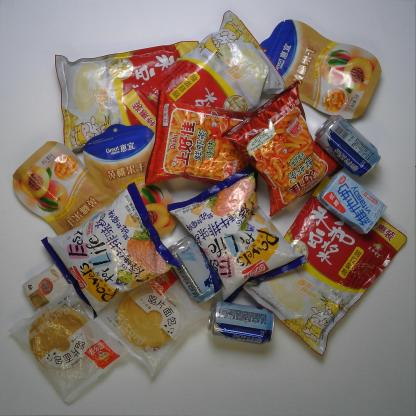Alcohol: (310, 110, 383, 178), (165, 232, 222, 304), (211, 294, 279, 342)
Dessert: (9, 293, 128, 406), (97, 262, 204, 374)
Dried Fruit: (247, 16, 384, 122), (13, 138, 128, 248), (82, 123, 183, 239)
Instant Drink: (242, 169, 411, 358), (143, 4, 286, 145), (57, 37, 205, 155)
Milk: (324, 177, 384, 235)
Puffed Food: (171, 166, 308, 306), (43, 183, 184, 314), (230, 83, 340, 215), (143, 89, 256, 194)
Tissue: (16, 266, 70, 310)
